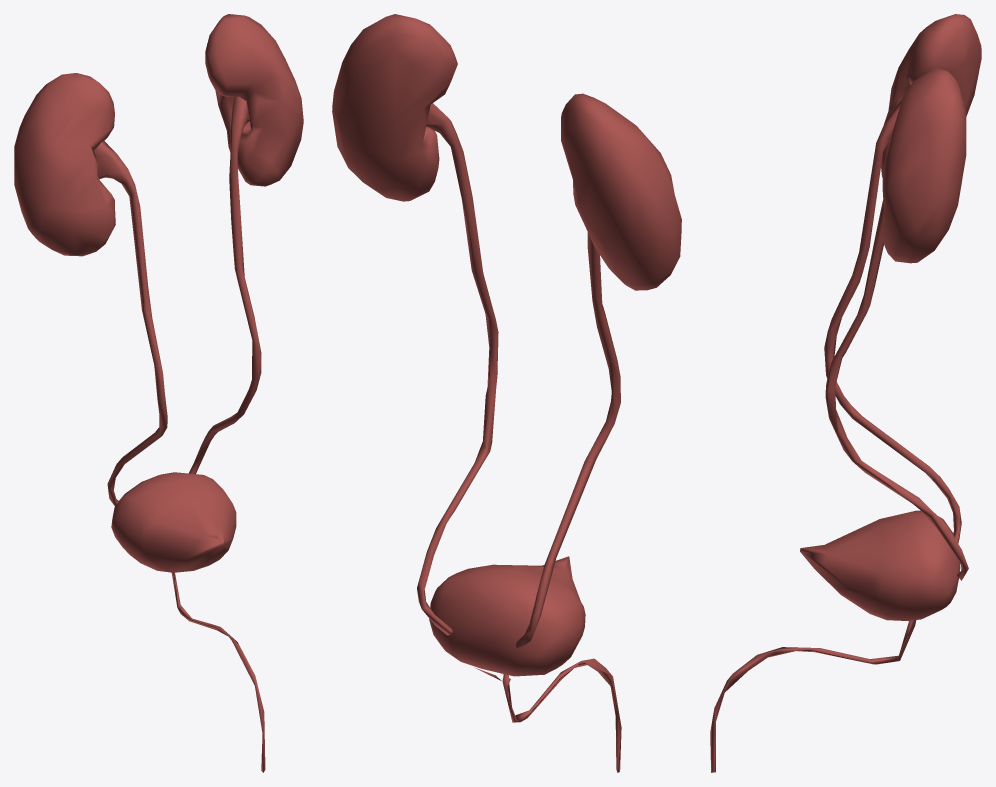
File: urinary.glb
The picture shows the model from 3 angles, left to right: view 1: azimuth 30°, elevation 25°; view 2: azimuth 150°, elevation 25°; view 3: azimuth 270°, elevation 25°; orthographic projection. The views are drawn at different scales.
Visible parts, largest first — view 1: FMA7204, FMA7205, FMA15900, FMA15571, FMA15572, FMA19667; view 2: FMA7205, FMA7204, FMA15900, FMA15572, FMA15571, FMA19667; view 3: FMA7205, FMA15900, FMA7204, FMA15571, FMA15572, FMA19667.
Boxes of the visible parts, x1,y1,x2,y2 form: FMA7204: (14,73,115,256); FMA7205: (205,14,303,186); FMA15900: (111,472,236,572); FMA15571: (94,141,167,506); FMA15572: (188,96,261,474); FMA19667: (171,572,265,772); FMA7205: (332,14,457,201); FMA7204: (561,93,681,290); FMA15900: (429,556,585,676); FMA15572: (417,103,498,635); FMA15571: (516,232,620,647); FMA19667: (474,658,621,772); FMA7205: (882,68,966,263); FMA15900: (800,510,960,620); FMA7204: (881,14,981,177); FMA15571: (824,100,961,543); FMA15572: (825,199,968,580); FMA19667: (710,620,916,772).
Bounding box in the file's own units: 0.1804 × 0.419 × 0.1397.
